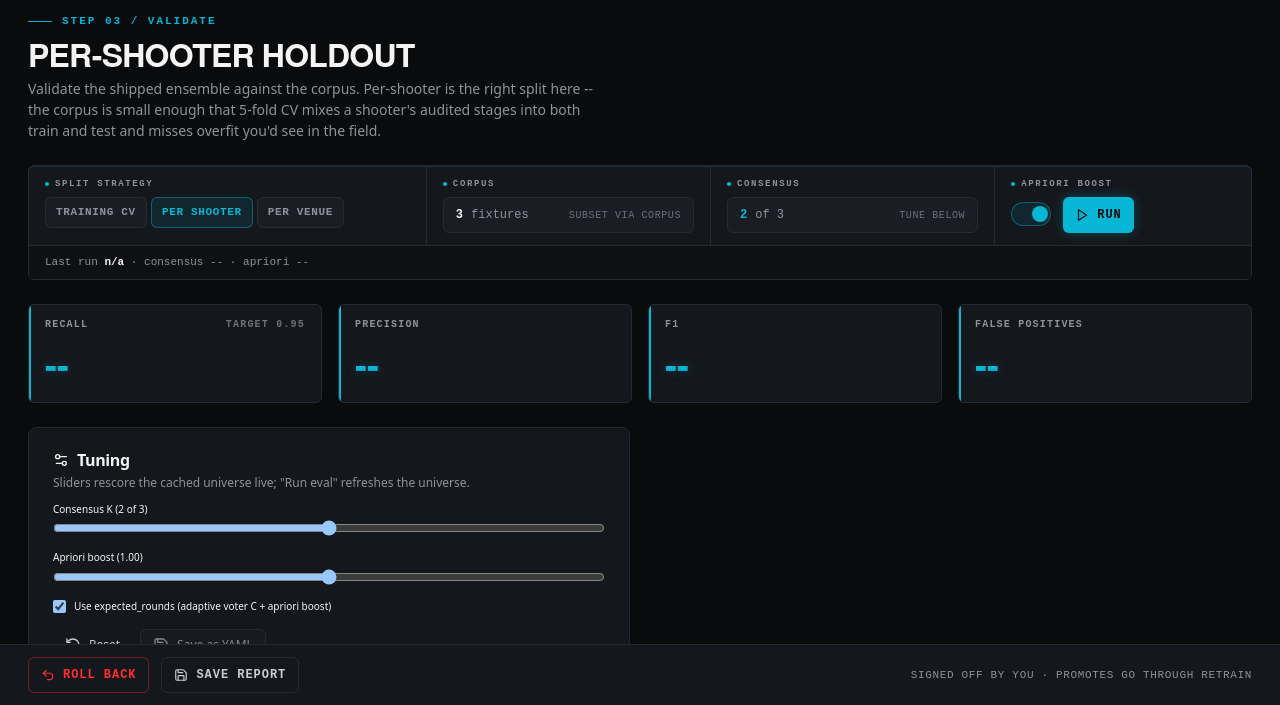
DevValidate split chips › switch the breakdown view; Training CV shows the build's own numbers
The image size is (1280, 705).
Step 1. Click the button "Per venue" → click(300, 212), box 257,197 -> 344,228
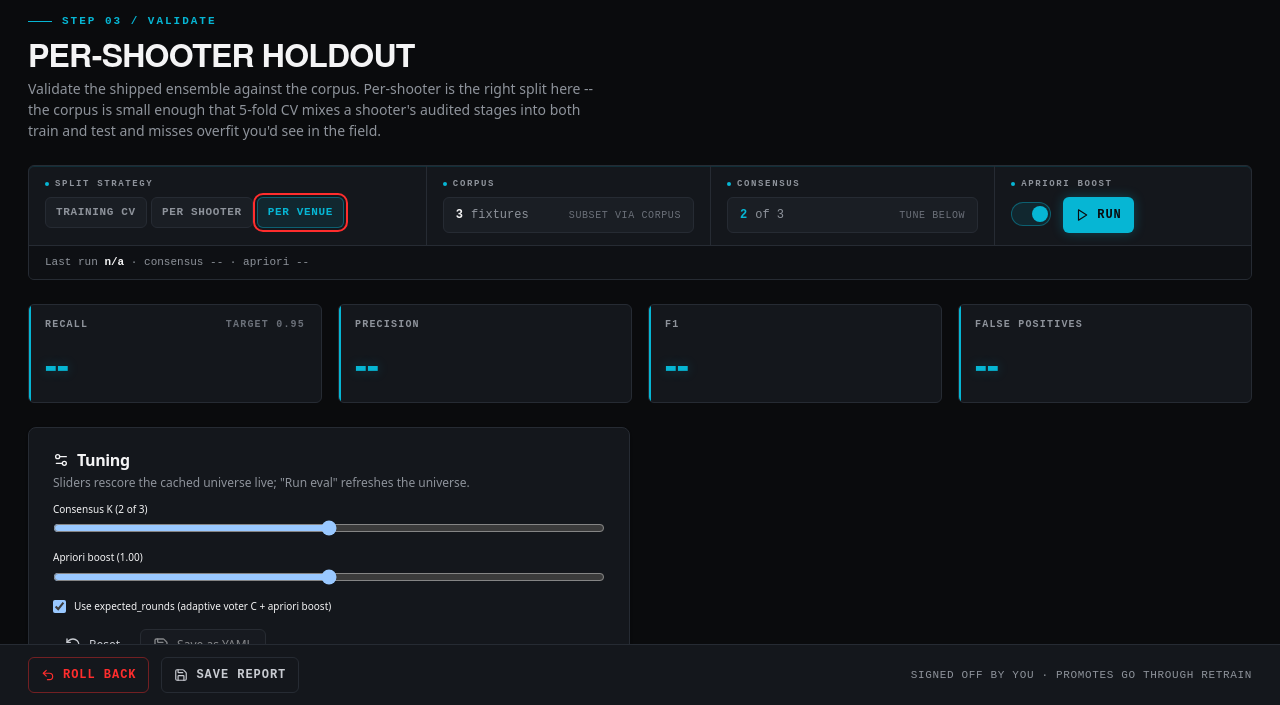
Step 2. Click the button "Training CV" → click(96, 212), box 45,197 -> 147,228
(page scrolled)
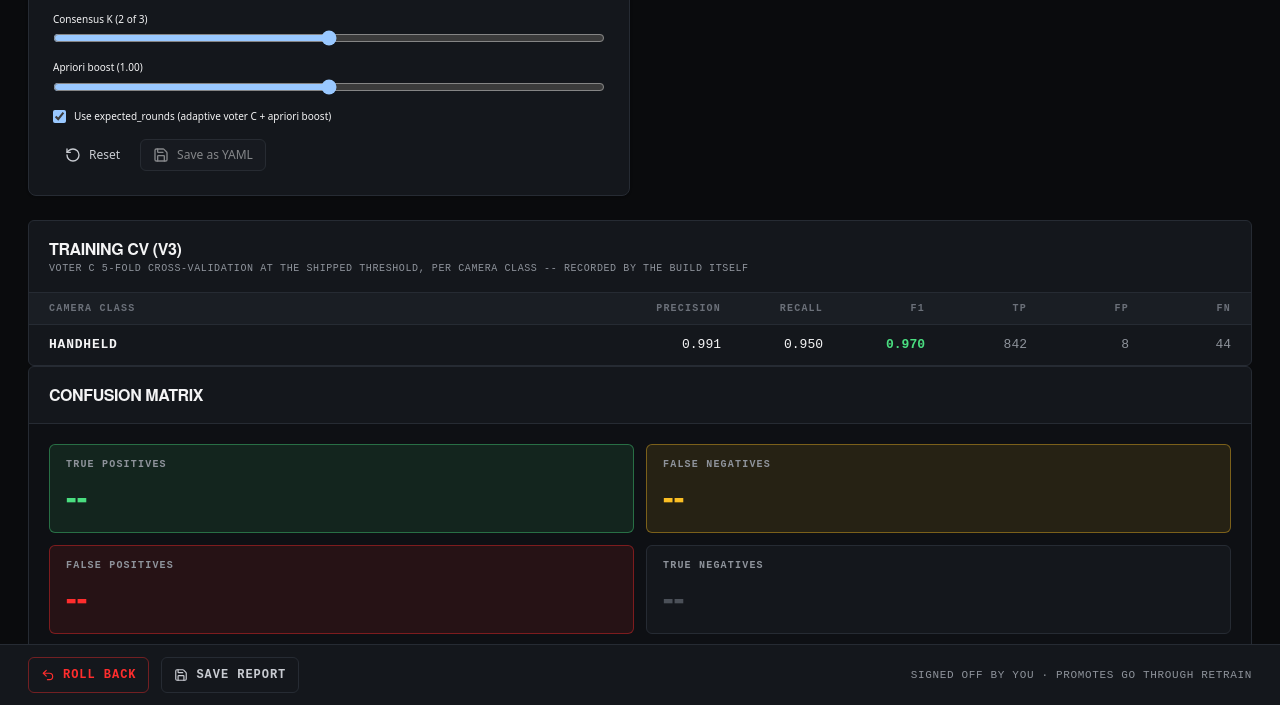
expect the text "handheld" is shown: met, box 49,337 -> 118,352
expect the text "0.991" is shown: met, box 682,337 -> 721,352
expect the text "0.970" is shown: met, box 886,337 -> 925,352
